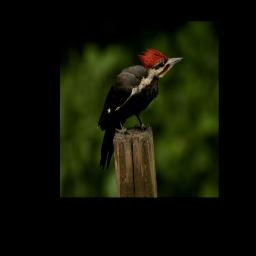Woodpecker: (90, 43, 186, 173)
